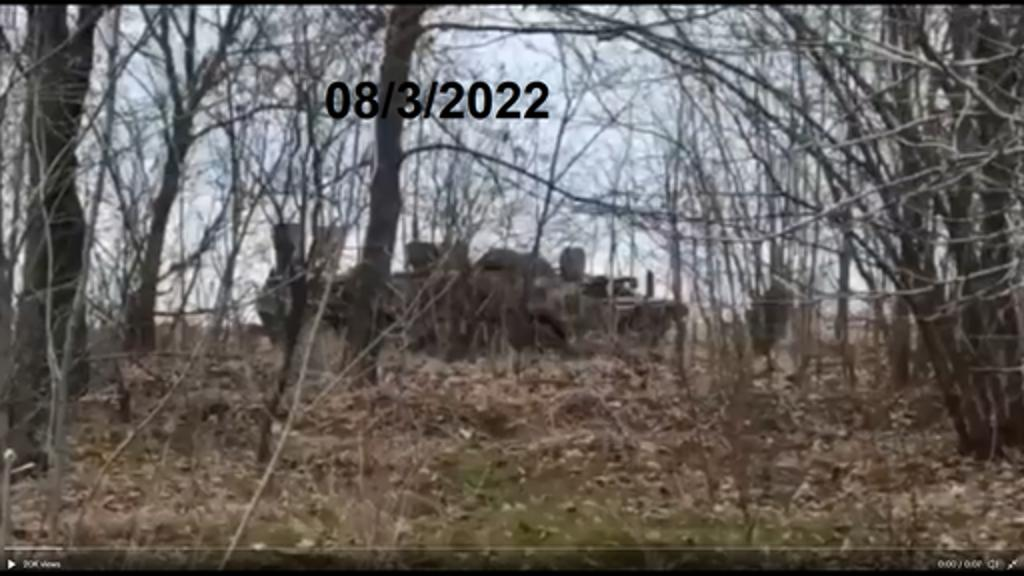APC-IFV: (252, 200, 686, 386)
